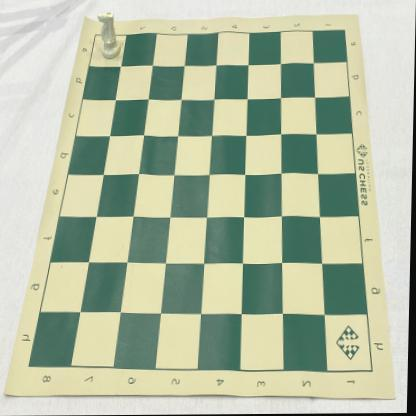white-knight: (97, 11, 122, 61)
